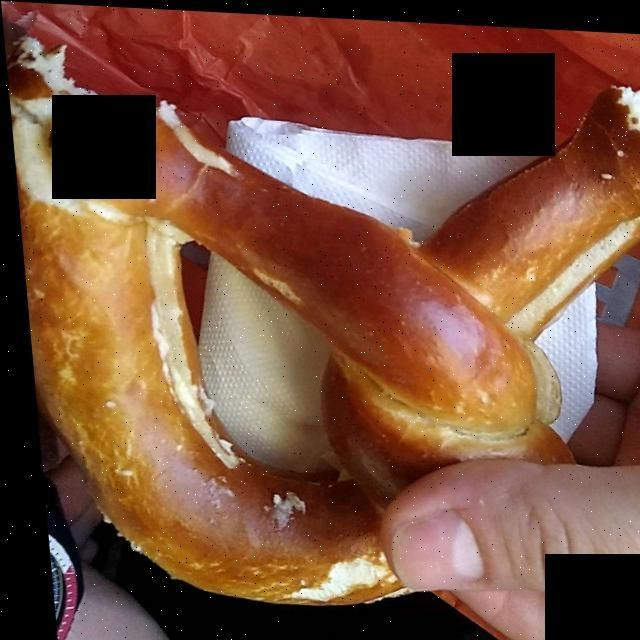pretzel: (22, 61, 640, 598)
